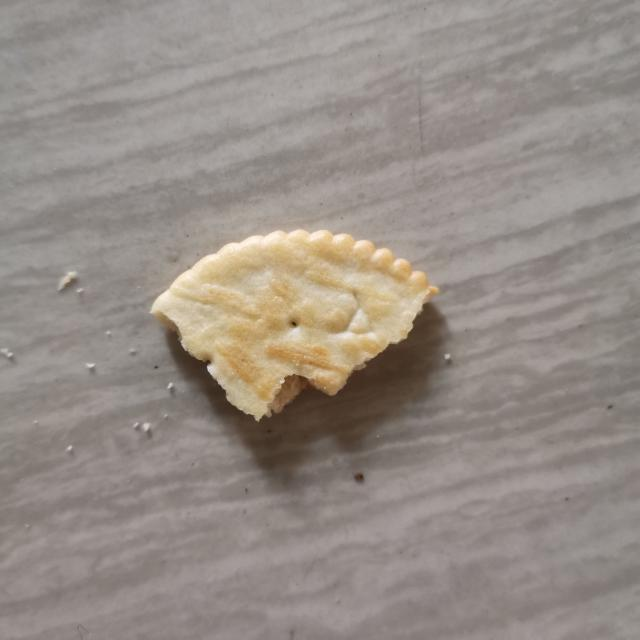Broken: (149, 226, 439, 422)
